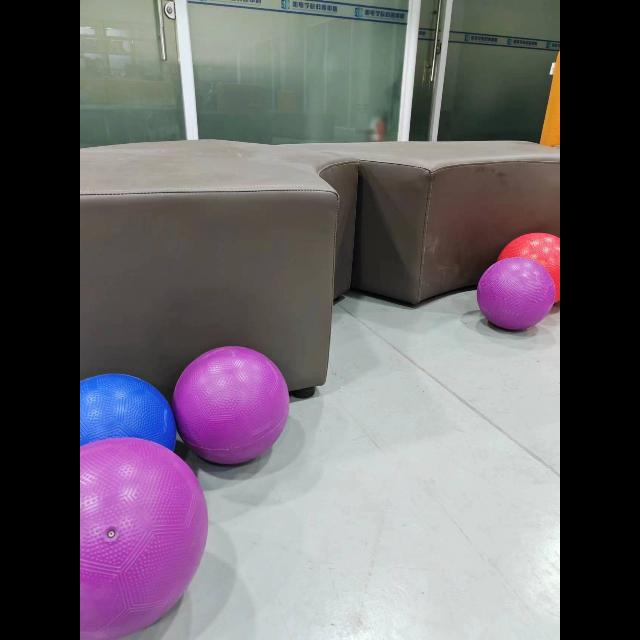B: (80, 374, 176, 450)
P: (80, 438, 208, 639), (172, 346, 289, 464), (476, 258, 555, 330)
R: (498, 232, 560, 302)
